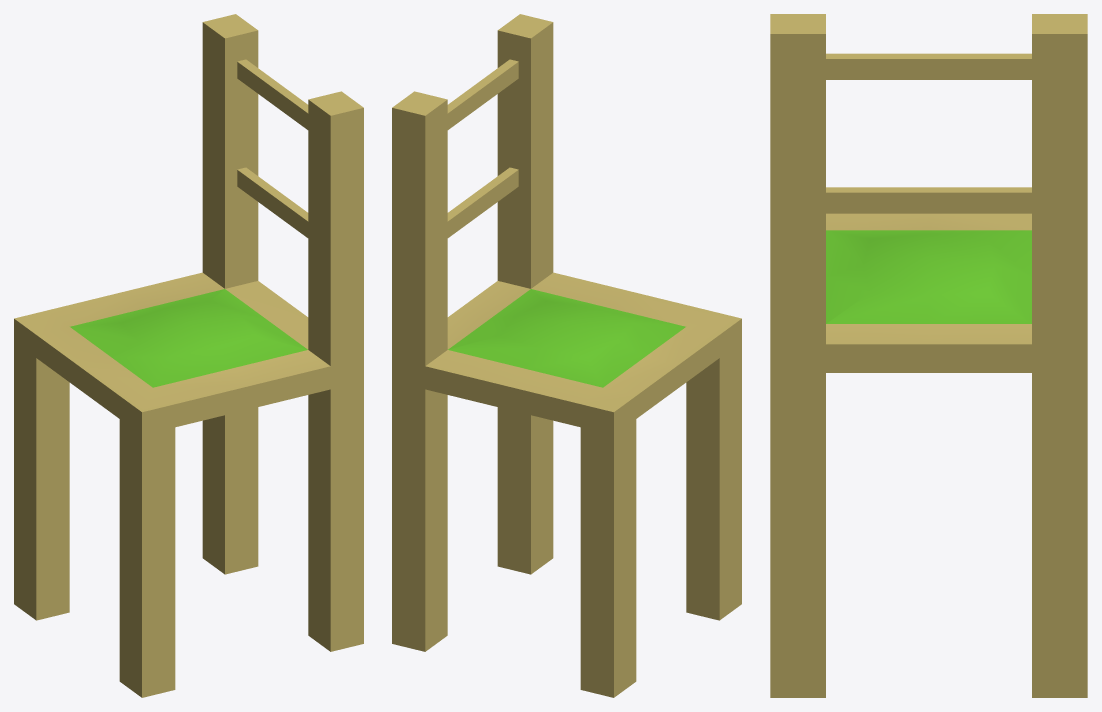
Rendered from Chair1.fbx.
3 renders of one model, left to right at view 1: azimuth 30°, elevation 25°; view 2: azimuth 150°, elevation 25°; view 3: azimuth 270°, elevation 25°, orthographic. The views are drawn at different scales.
Parts seen in each view (by area): view 1: Cube; view 2: Cube; view 3: Cube.
Boxes of the visible parts, x1,y1,x2,y2 form: Cube: (14,14,363,697); Cube: (392,14,741,697); Cube: (770,14,1087,697).
Size of the model in its own units: 46.79 by 108 by 46.79.
